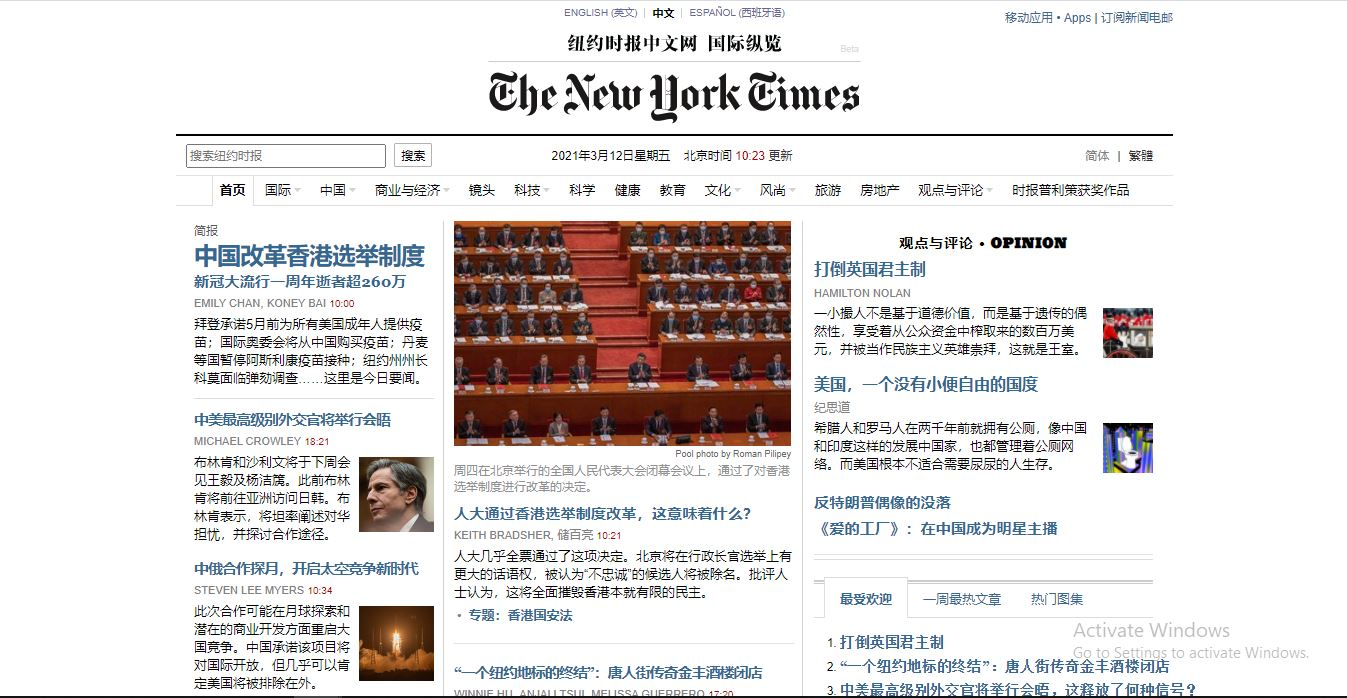Menu Bar: (209, 172, 1164, 212)
Side Bar: (801, 228, 1166, 698), (181, 218, 445, 698)
